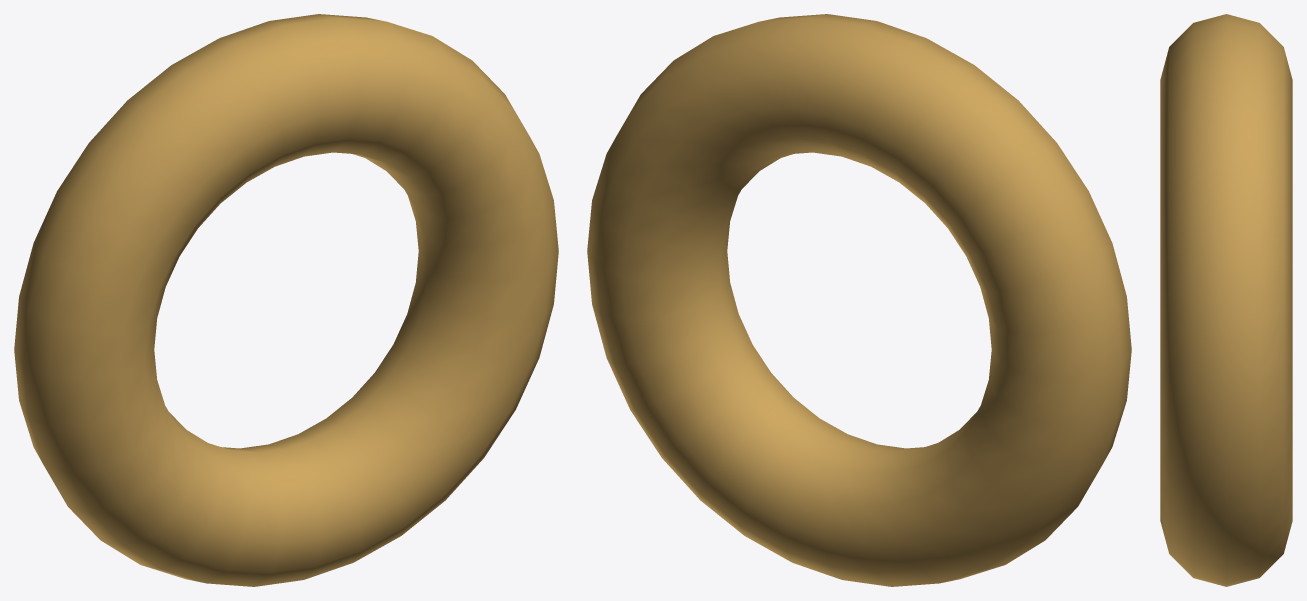
File: hinge.glb
The picture shows the model from 3 angles, left to right: view 1: azimuth 30°, elevation 25°; view 2: azimuth 150°, elevation 25°; view 3: azimuth 270°, elevation 25°; orthographic projection. The views are drawn at different scales.
Visible parts, largest first — view 1: hinge; view 2: hinge; view 3: hinge.
Boxes of the visible parts, x1=… form: hinge: x1=14, y1=14, x2=558, y2=586; hinge: x1=587, y1=14, x2=1131, y2=586; hinge: x1=1160, y1=14, x2=1292, y2=586.
Bounding box in the file's own units: 0.0156 × 0.0156 × 0.0036.
